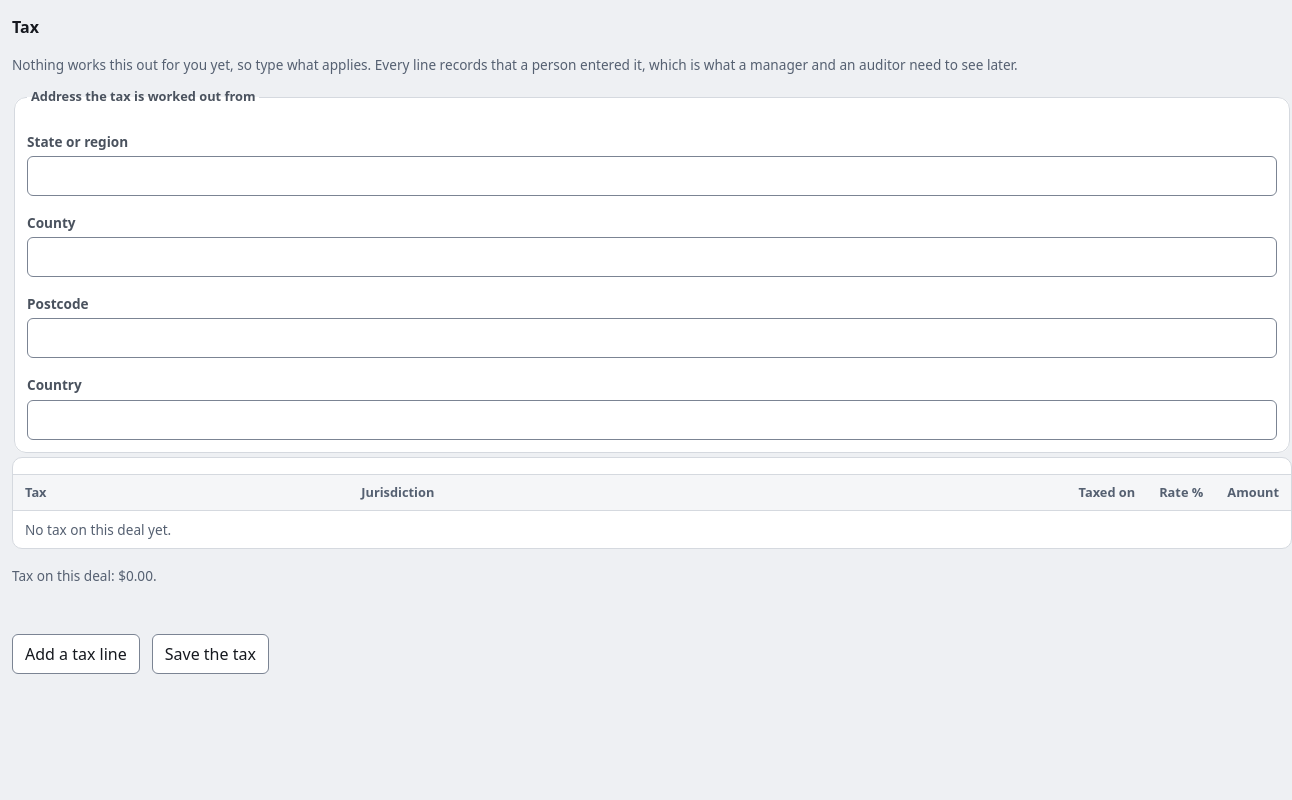
Test case: the tax arithmetic › works the amount out from the basis and the rate
Click the button "Add a tax line".
click(76, 654)  # box left=12, top=634, right=140, bottom=674
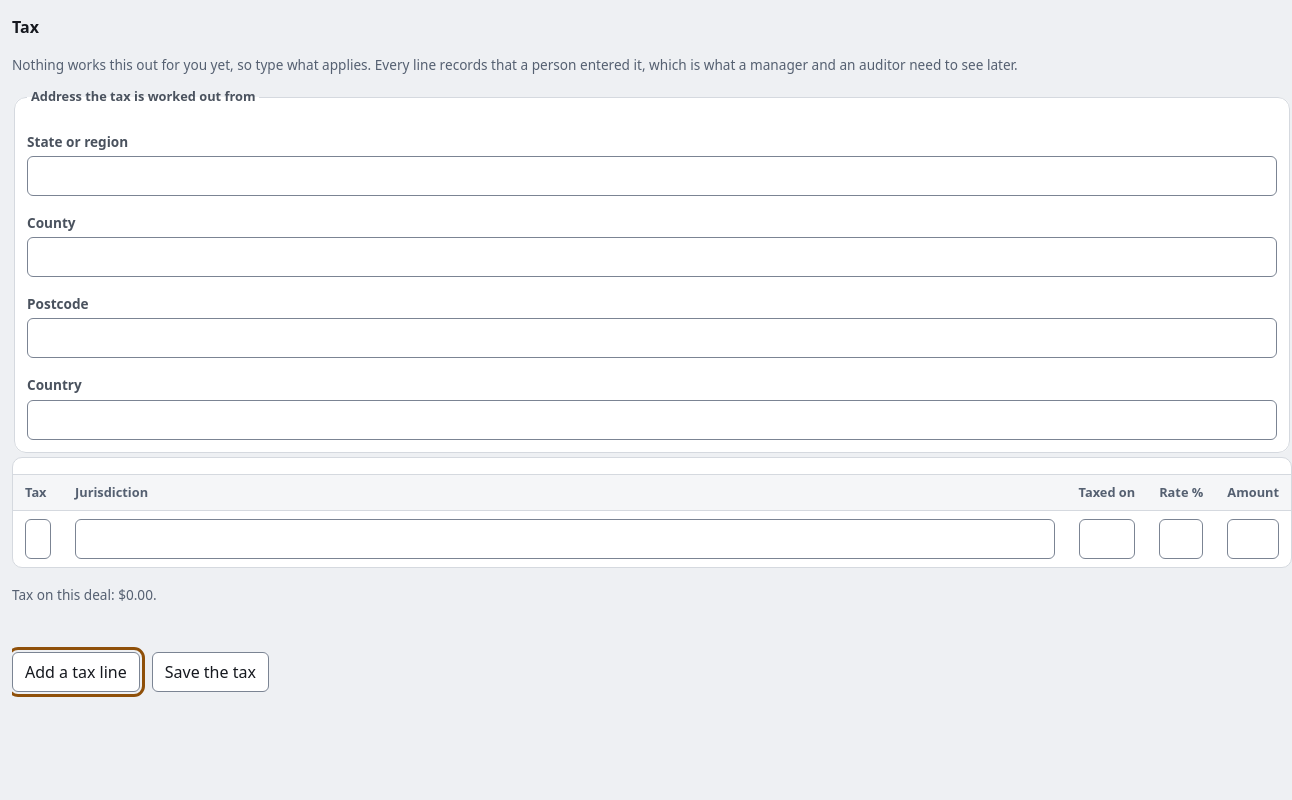
Type "33000" into the field named "Amount taxed on line 1".
click(1107, 539); type("33000")  # box left=1079, top=519, right=1135, bottom=559
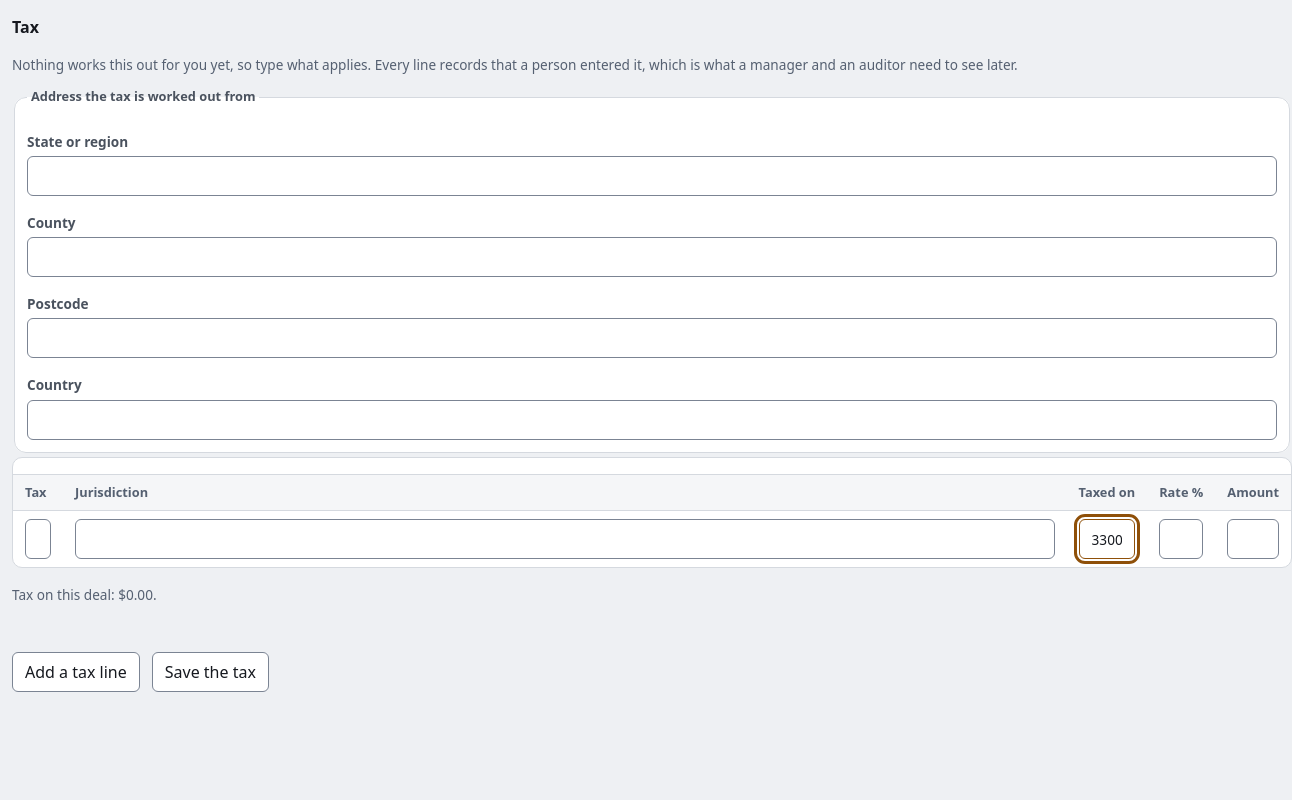
Type "6.25" into the field named "Rate on line 1, as a percentage".
click(1181, 539); type("6.25")  # box left=1159, top=519, right=1203, bottom=559
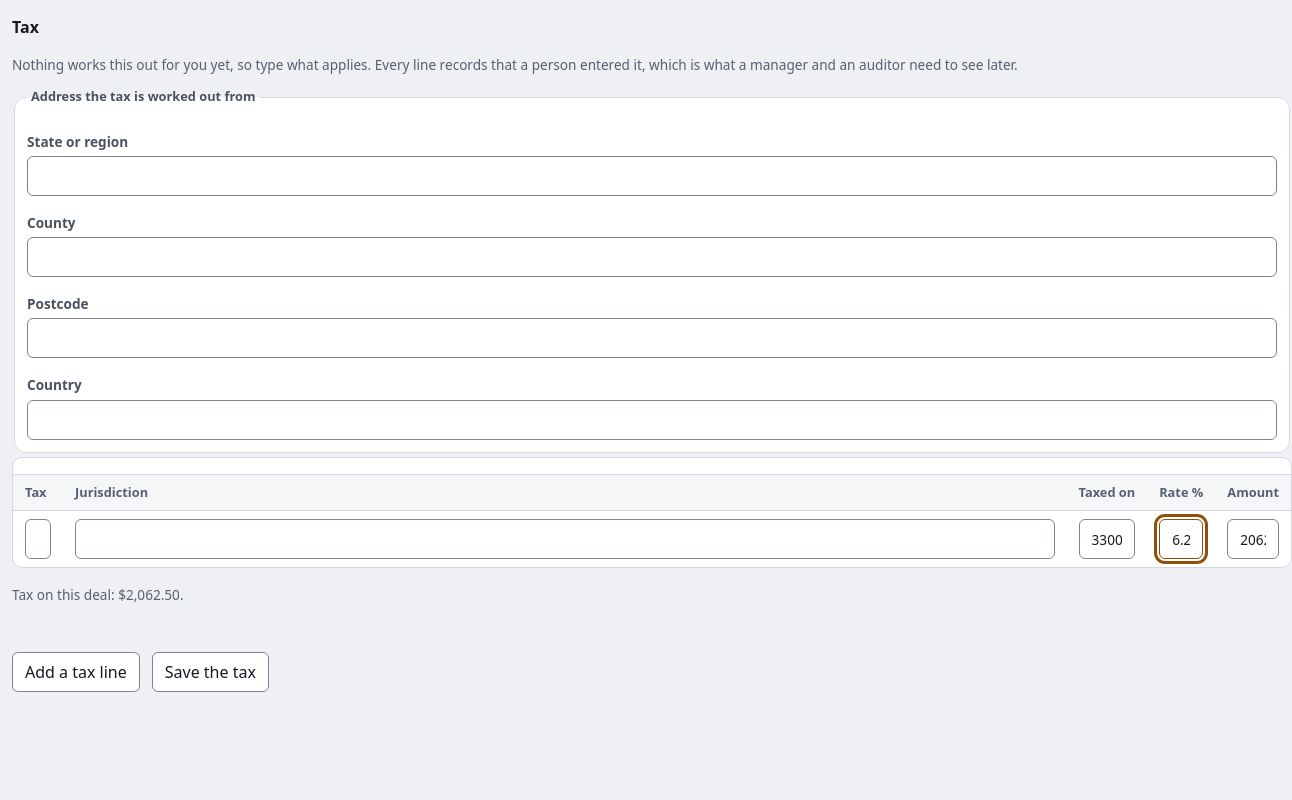
Expected: the field named "Tax charged on line 1" holds "2062.50", left=1227, top=519, right=1279, bottom=559
